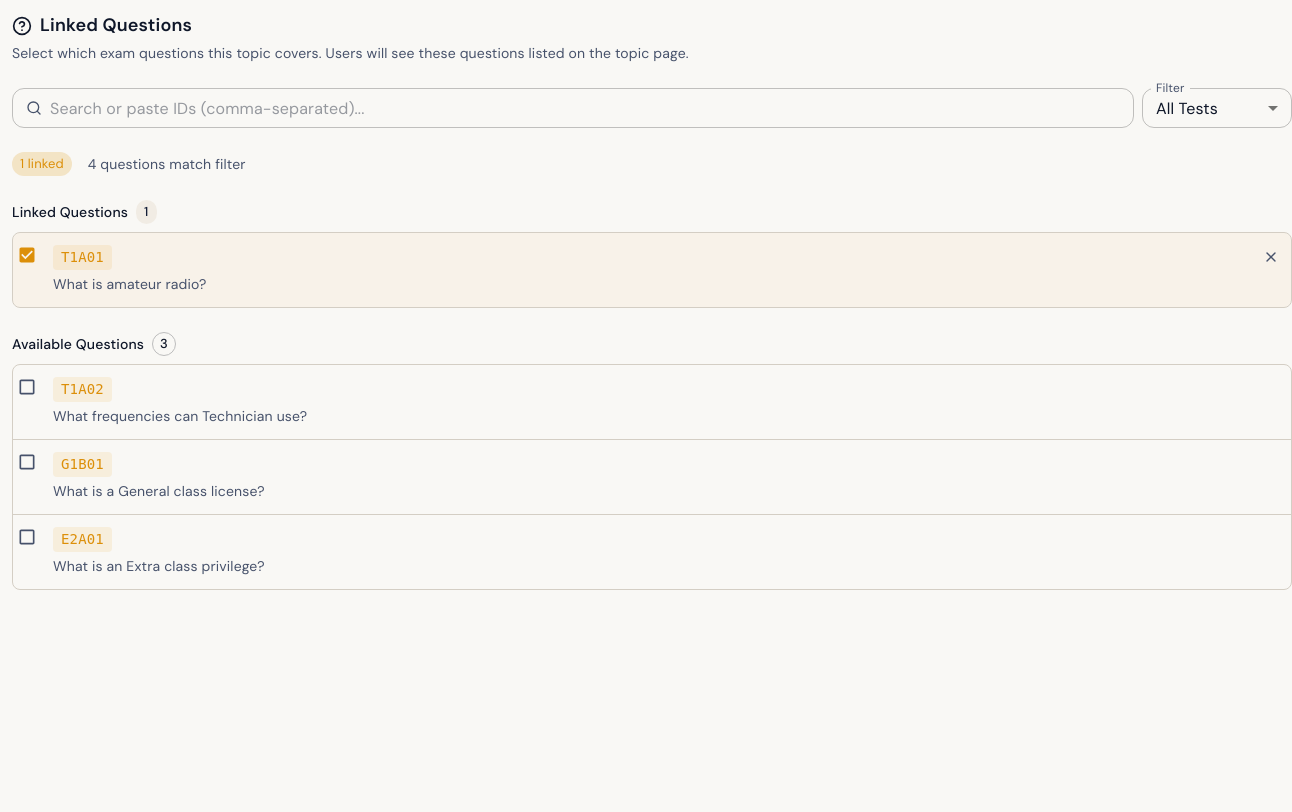
TopicQuestionManager › Test Type Filter › should filter to General questions only
Expected: the text "G1B01" is shown, [53,452,112,477]
Note: MUI's Select opens on mousedown, which userEvent raises and fireEvent.click does not.
Click the dropdown named "filter".
click(1187, 108)  # box [1156,98,1218,118]
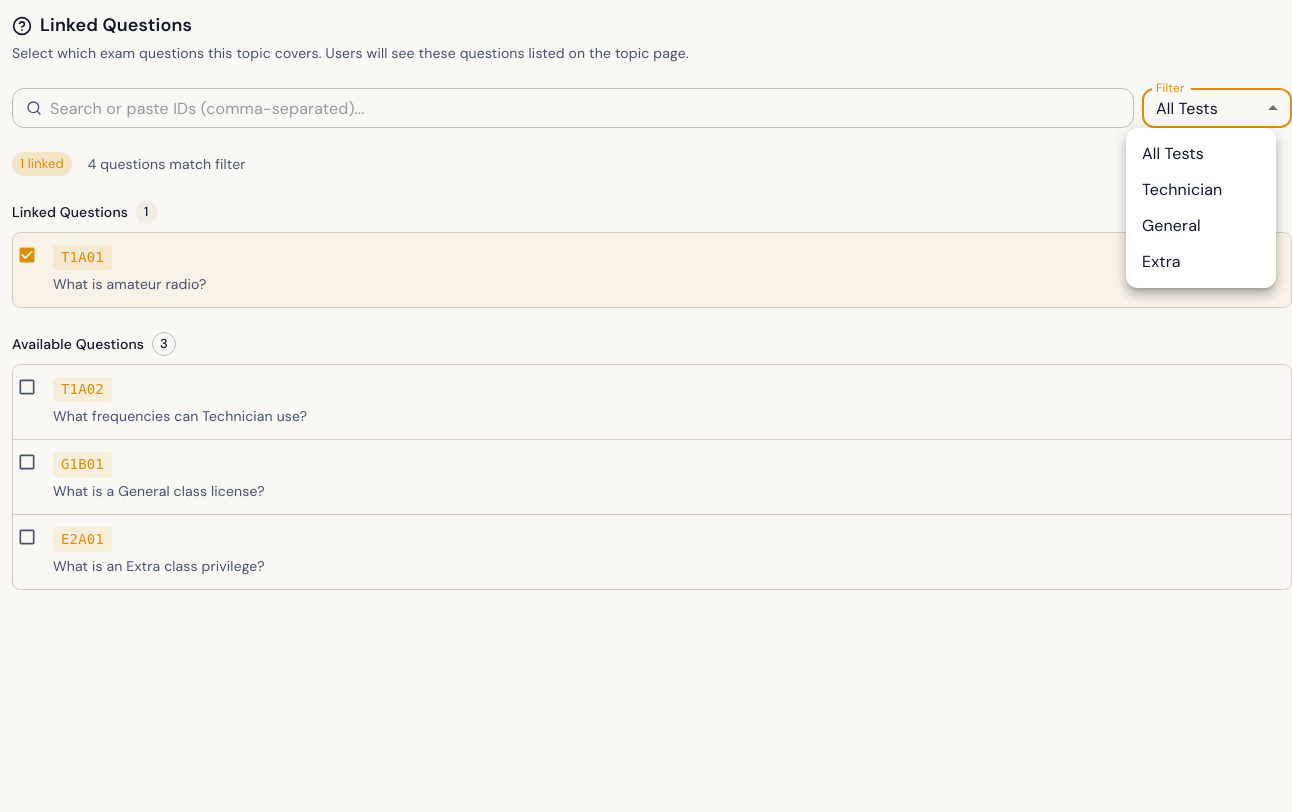
Click the option "General".
click(1171, 226)  # box [1142,215,1201,236]
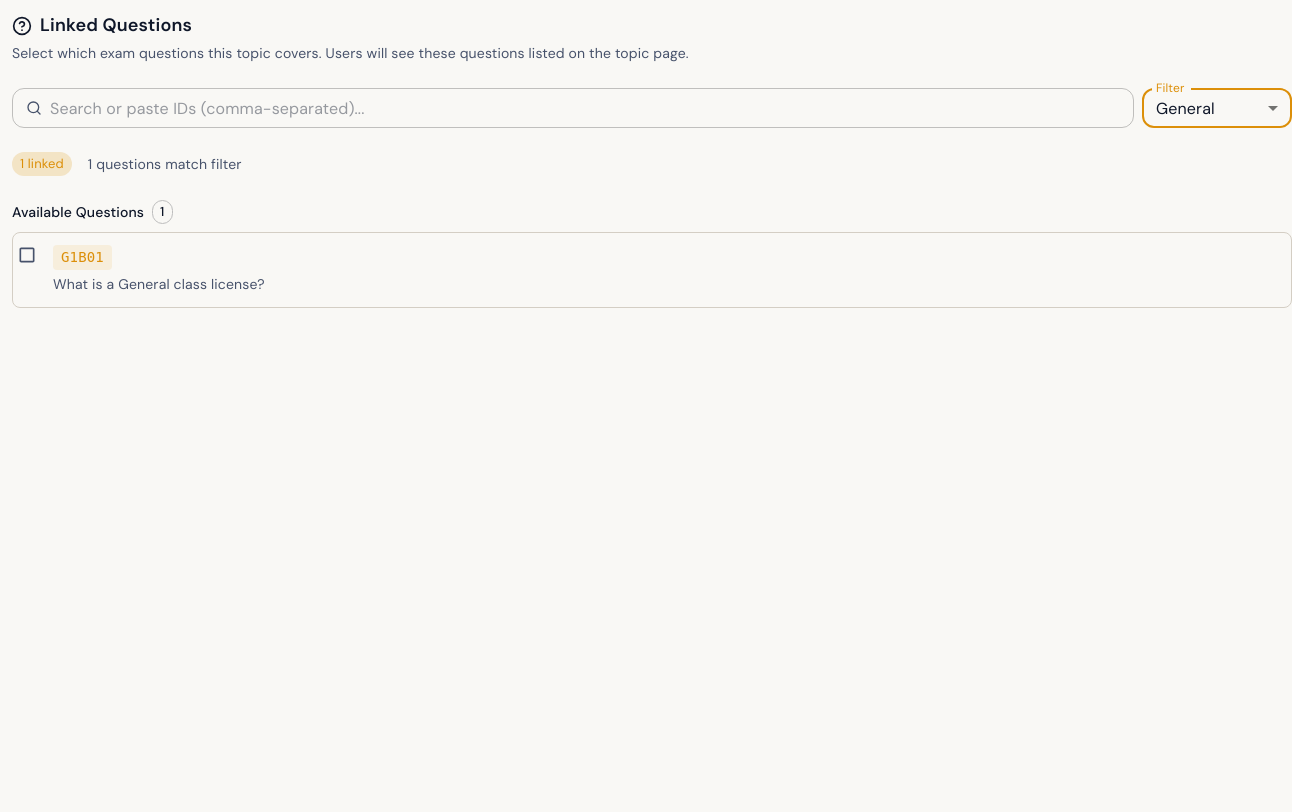
Expected: the text "G1B01" is shown, [53,245,112,270]
Now the button "T1A01" is gone
